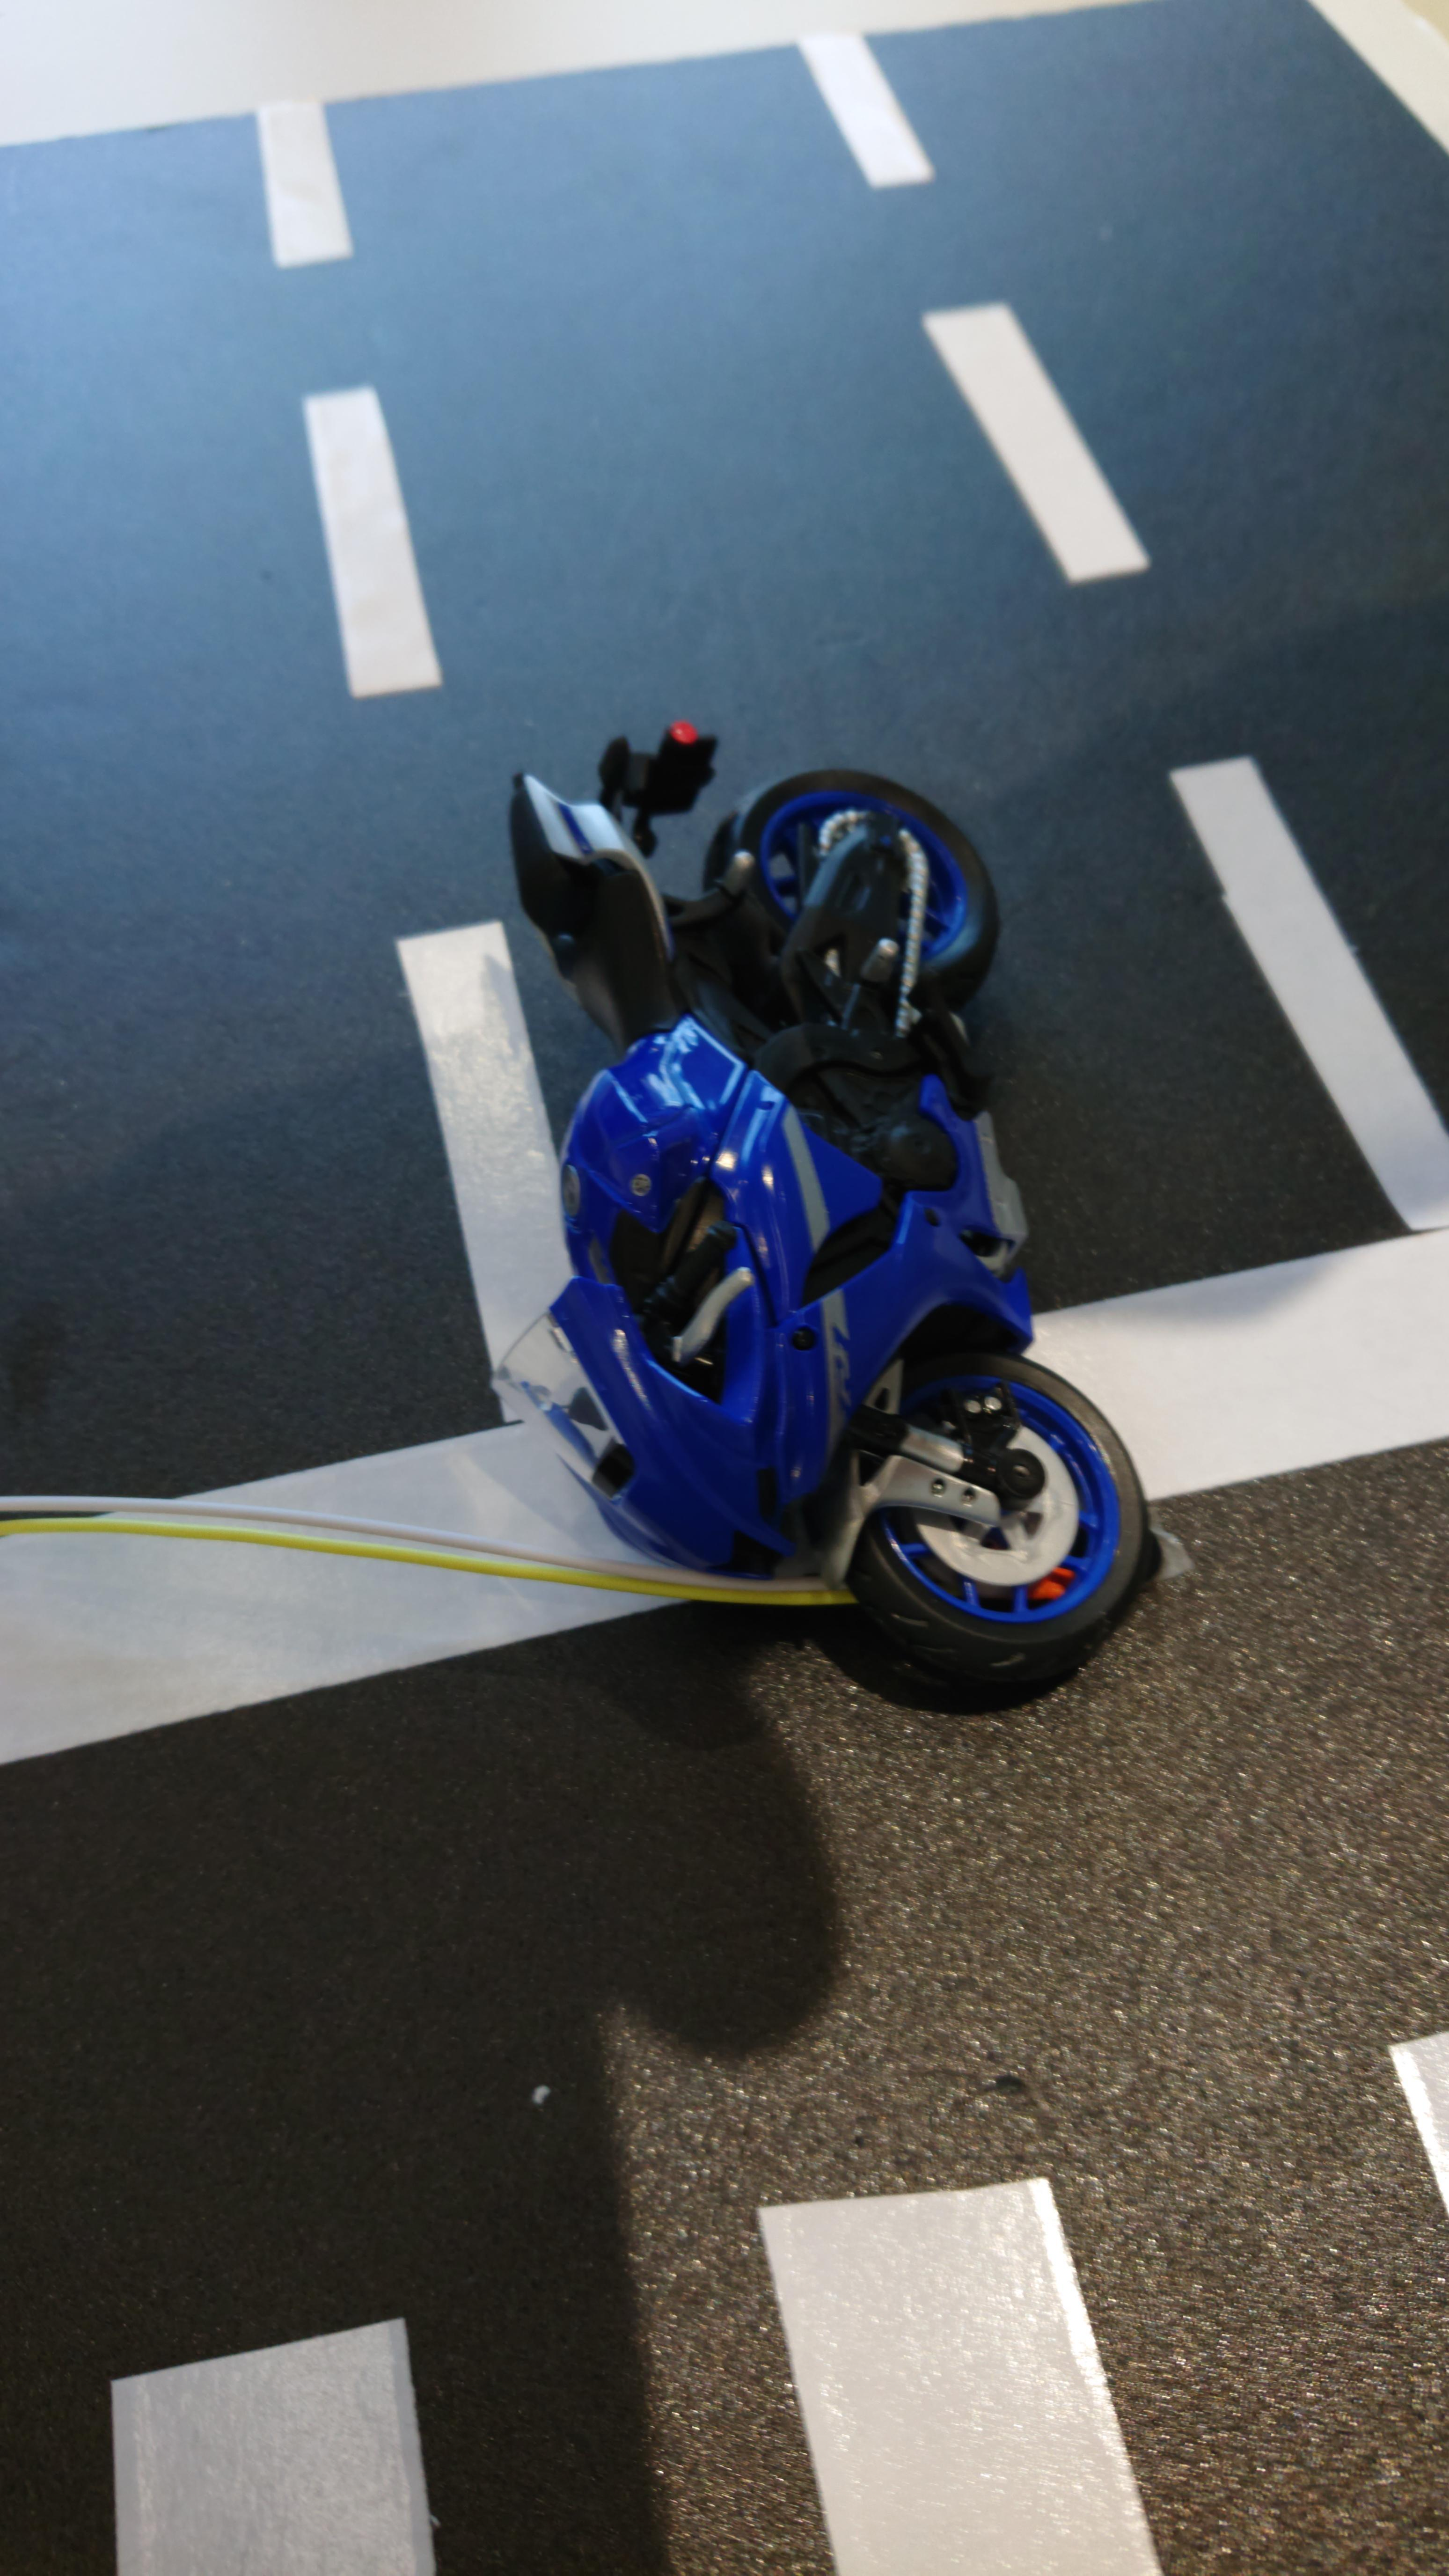Motorcycle: (478, 694, 1169, 1718)
